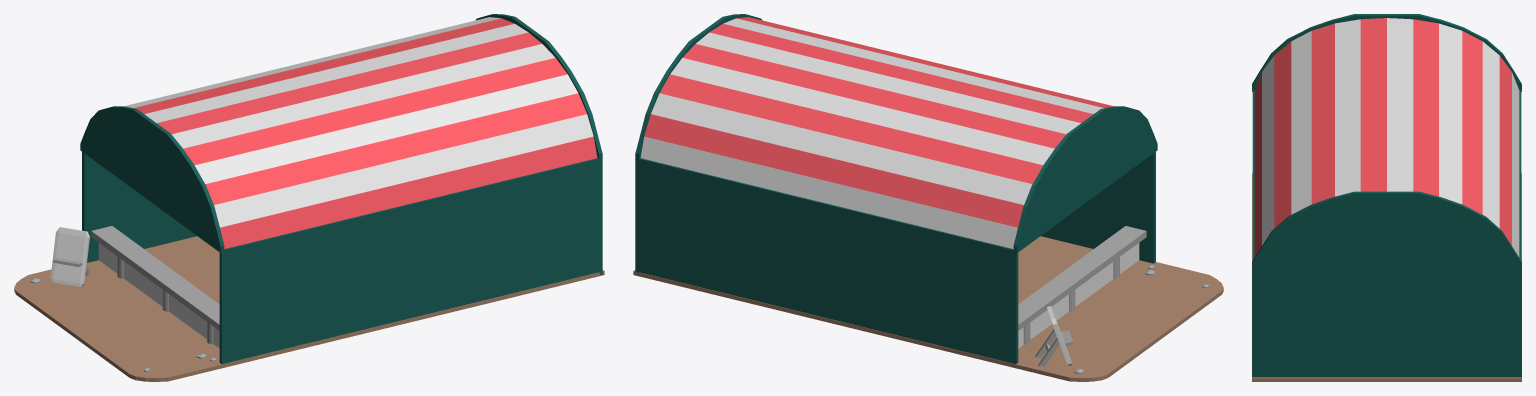
Rendered from shootingRange.fbx.
The picture shows the model from 3 angles, left to right: view 1: azimuth 30°, elevation 25°; view 2: azimuth 150°, elevation 25°; view 3: azimuth 270°, elevation 25°; orthographic projection. The views are drawn at different scales.
Parts seen in each view (by area): view 1: roof, shootingRangeWalls, Base, counter, pewPewStand; view 2: roof, shootingRangeWalls, Base, counter, pewPewStand; view 3: shootingRangeWalls, roof, Base.
Part boxes in pixels (left/top/right/bottom): roof: left=124, top=17, right=597, bottom=248; shootingRangeWalls: left=80, top=14, right=602, bottom=364; Base: left=14, top=236, right=604, bottom=381; counter: left=91, top=226, right=219, bottom=348; pewPewStand: left=50, top=227, right=89, bottom=286; roof: left=640, top=17, right=1113, bottom=248; shootingRangeWalls: left=635, top=14, right=1157, bottom=364; Base: left=633, top=236, right=1223, bottom=381; counter: left=1018, top=226, right=1146, bottom=348; pewPewStand: left=1035, top=306, right=1073, bottom=366; shootingRangeWalls: left=1252, top=14, right=1521, bottom=377; roof: left=1254, top=18, right=1519, bottom=256; Base: left=1252, top=173, right=1521, bottom=381.
Size of the model in its own units: 3043 by 1228 by 1601.
